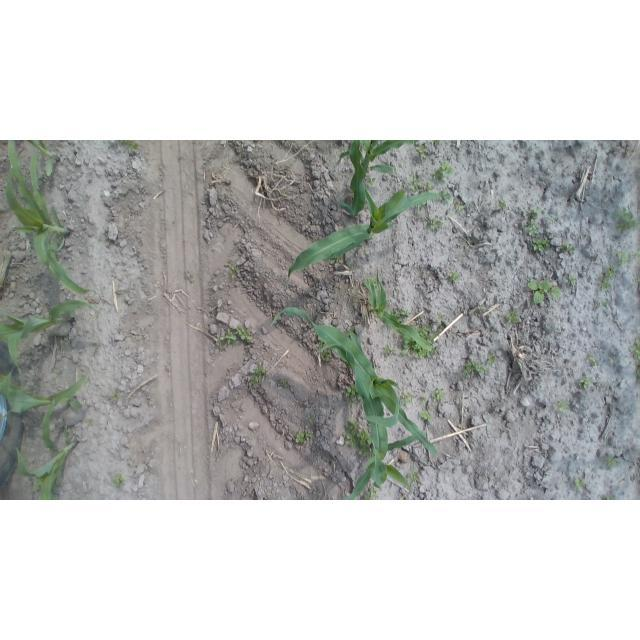Maize: (280, 312, 442, 499), (287, 180, 443, 287), (2, 141, 100, 295), (339, 402, 416, 500), (0, 299, 96, 374), (1, 370, 90, 446), (333, 141, 417, 220), (362, 269, 437, 352), (15, 429, 82, 500), (28, 140, 58, 184)
Weeds: (342, 420, 371, 457), (529, 278, 562, 305), (613, 206, 637, 233), (526, 206, 543, 239), (599, 265, 618, 292), (250, 364, 269, 389), (460, 360, 485, 377), (432, 161, 453, 181), (217, 329, 239, 348), (414, 324, 436, 343), (531, 236, 552, 254), (402, 337, 420, 357), (316, 343, 333, 362), (345, 384, 359, 406), (392, 309, 412, 324), (235, 326, 253, 342), (295, 430, 314, 445), (120, 141, 141, 154), (409, 172, 420, 193), (429, 217, 444, 232), (365, 485, 380, 500), (113, 472, 127, 488), (416, 346, 434, 358), (506, 310, 521, 324), (436, 190, 452, 203), (629, 339, 638, 361), (562, 241, 576, 255), (556, 399, 570, 413), (605, 456, 620, 469), (421, 409, 433, 425), (617, 250, 628, 267), (587, 353, 600, 367), (447, 269, 460, 283), (432, 388, 445, 401), (416, 145, 428, 159), (408, 470, 420, 483), (573, 478, 585, 491), (452, 201, 464, 214), (579, 377, 592, 389), (566, 274, 577, 288), (400, 393, 412, 405), (383, 345, 394, 358), (546, 213, 559, 223), (497, 200, 507, 213), (229, 266, 239, 279), (487, 354, 497, 366), (34, 477, 44, 489), (424, 183, 437, 192), (278, 379, 290, 388), (475, 305, 486, 314), (598, 301, 608, 310), (92, 341, 101, 351), (306, 414, 314, 425), (346, 262, 357, 270), (602, 495, 618, 500), (111, 391, 119, 401), (437, 313, 445, 323), (144, 465, 152, 474), (359, 247, 367, 256), (433, 141, 443, 148), (437, 323, 445, 331), (86, 418, 94, 426), (632, 252, 639, 261), (609, 355, 616, 364), (420, 396, 428, 403), (418, 313, 426, 319)
